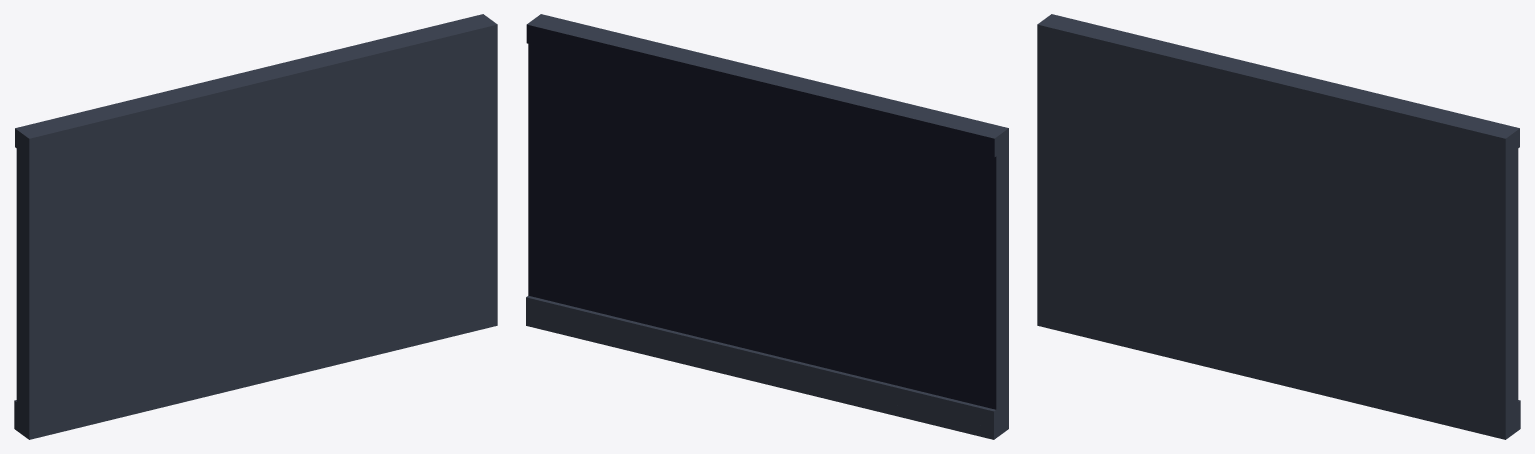
Rendered from Building_FaderWall02.fbx.
3 views of the same model, side by side, from view 1: azimuth 30°, elevation 25°; view 2: azimuth 150°, elevation 25°; view 3: azimuth 330°, elevation 25° (orthographic).
Visible parts, largest first — view 1: Riven's Room.001; view 2: Riven's Room.001; view 3: Riven's Room.001.
Part boxes in pixels (x1=…): Riven's Room.001: x1=14, y1=14, x2=497, y2=439; Riven's Room.001: x1=526, y1=14, x2=1008, y2=439; Riven's Room.001: x1=1037, y1=14, x2=1520, y2=439.
Size of the model in its own units: 490 by 301 by 27.18.
